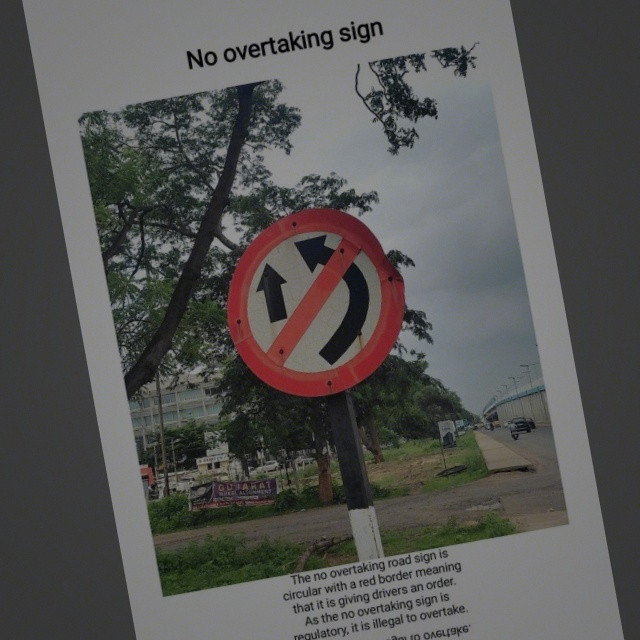Overtaking_Prohibited: (215, 193, 419, 410)
